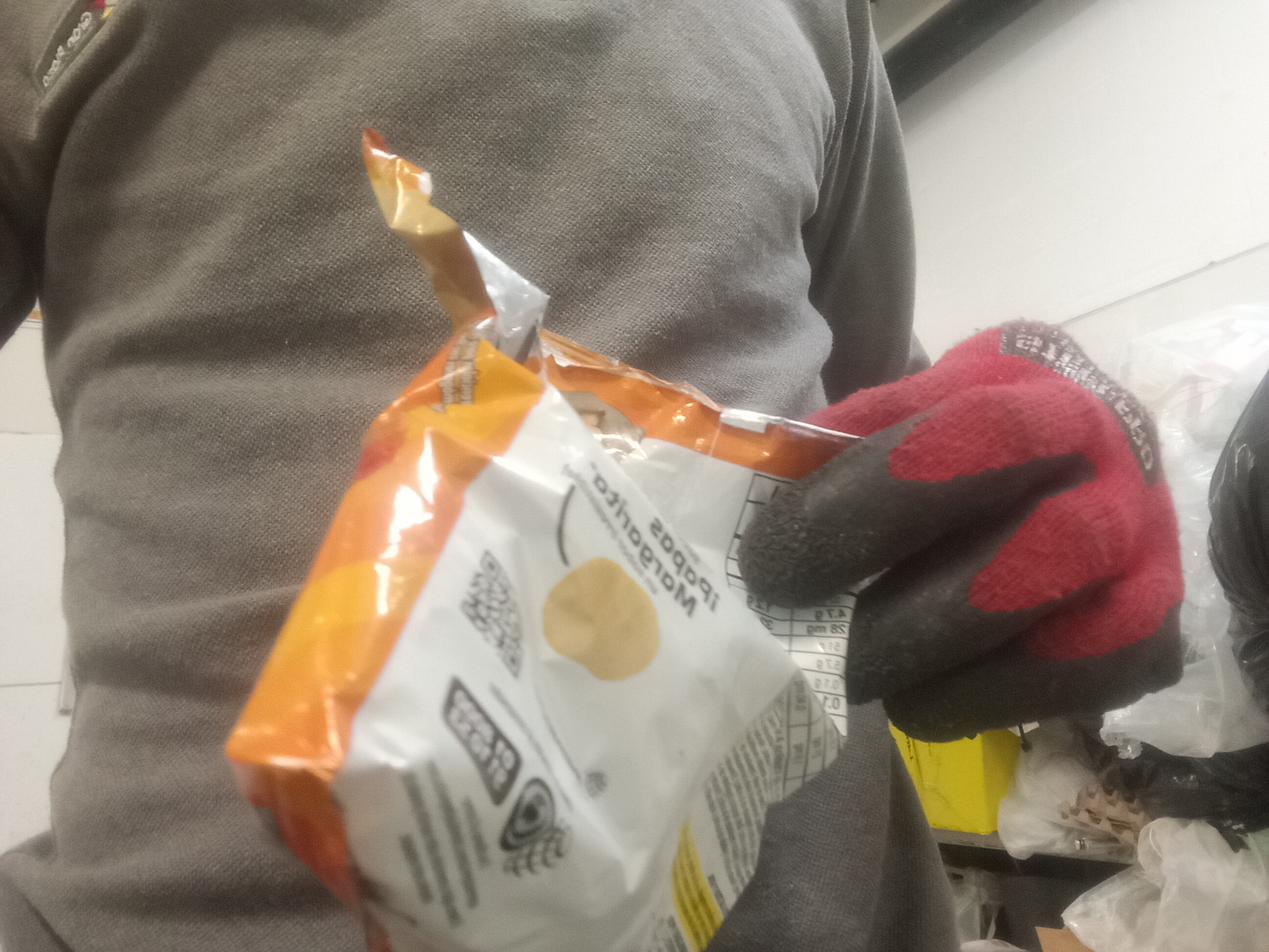Ordinario: (227, 133, 915, 952)
